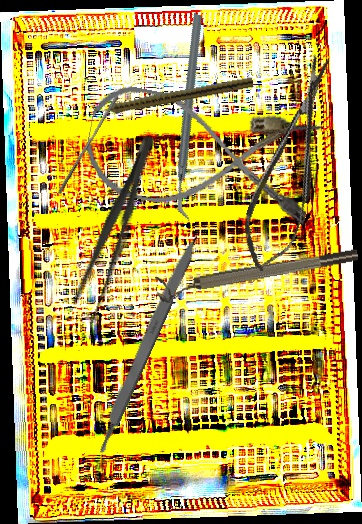Cannula: (78, 80, 324, 231)
Chopper: (103, 11, 280, 222)
Dressing Forceps: (67, 131, 165, 327)
Fixation Ring: (154, 245, 361, 305)
Handpiece: (92, 73, 254, 119)
Micro Scissor: (230, 50, 354, 278)
Pusher: (56, 93, 120, 197)
Scalpel Handle: (90, 232, 202, 456)
